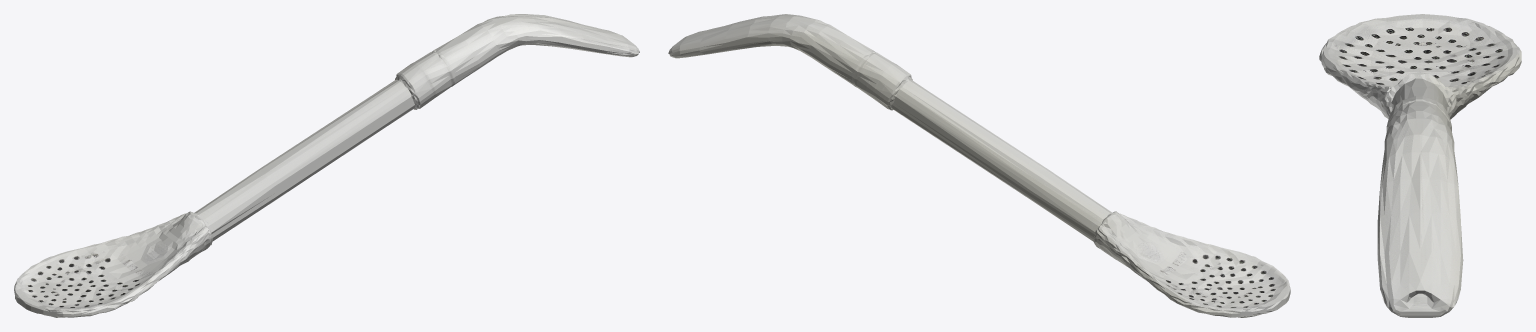
File: bombilla.glb
3 renders of one model, left to right at view 1: azimuth 30°, elevation 25°; view 2: azimuth 150°, elevation 25°; view 3: azimuth 270°, elevation 25°, orthographic. The views are drawn at different scales.
Bounding box in the file's own units: 1.9 × 0.5088 × 0.3523.
1 material, 1 textured.
